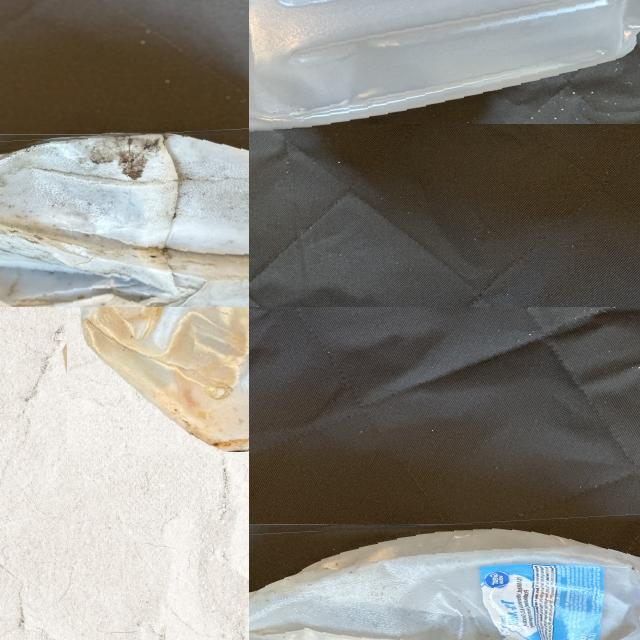milk-jug: (249, 0, 640, 131), (249, 517, 640, 640), (0, 127, 249, 307), (63, 307, 249, 455)
